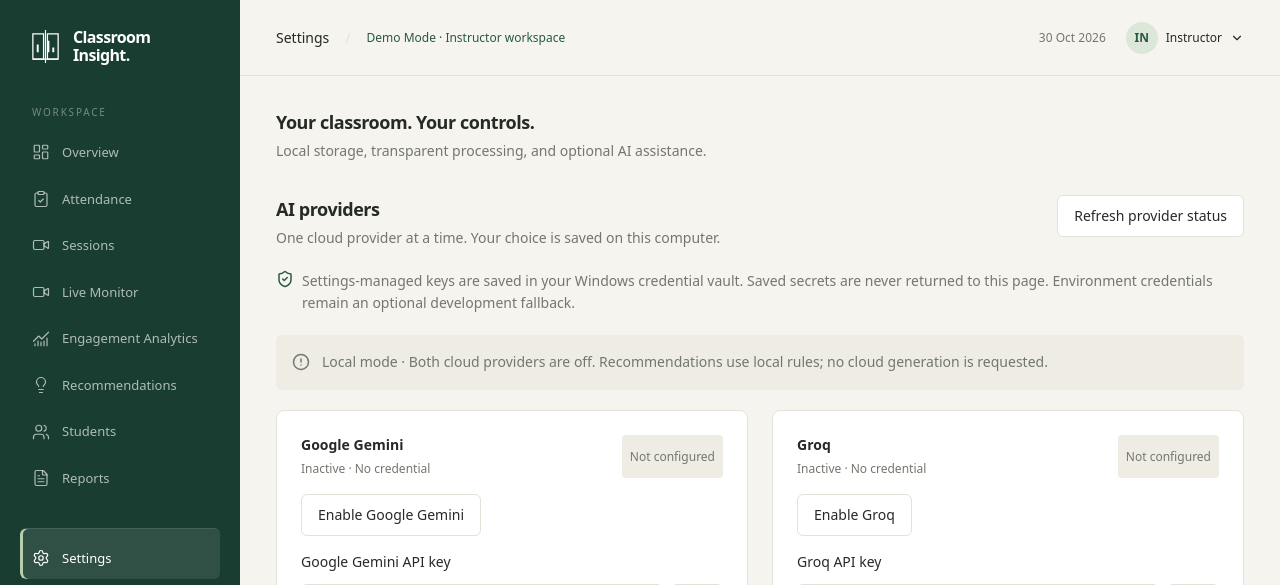
Test: navigation opens Overview
The width and height of the screenshot is (1280, 585).
Check: the heading "Your classroom. Your controls." is shown, box left=276, top=110, right=534, bottom=134
Click the link "Overview".
click(75, 152)  # box left=32, top=143, right=119, bottom=161
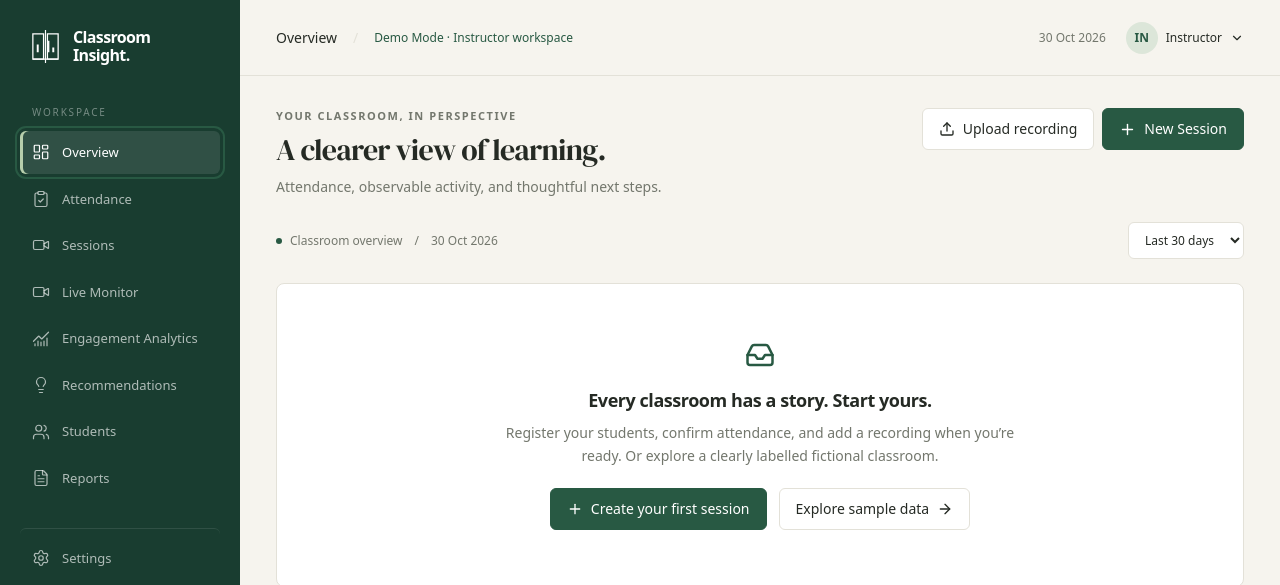
Check: the heading "A clearer view of learning." is shown, box left=276, top=132, right=662, bottom=168
